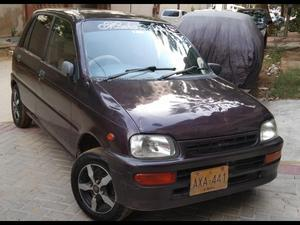windshield: (77, 20, 216, 84)
